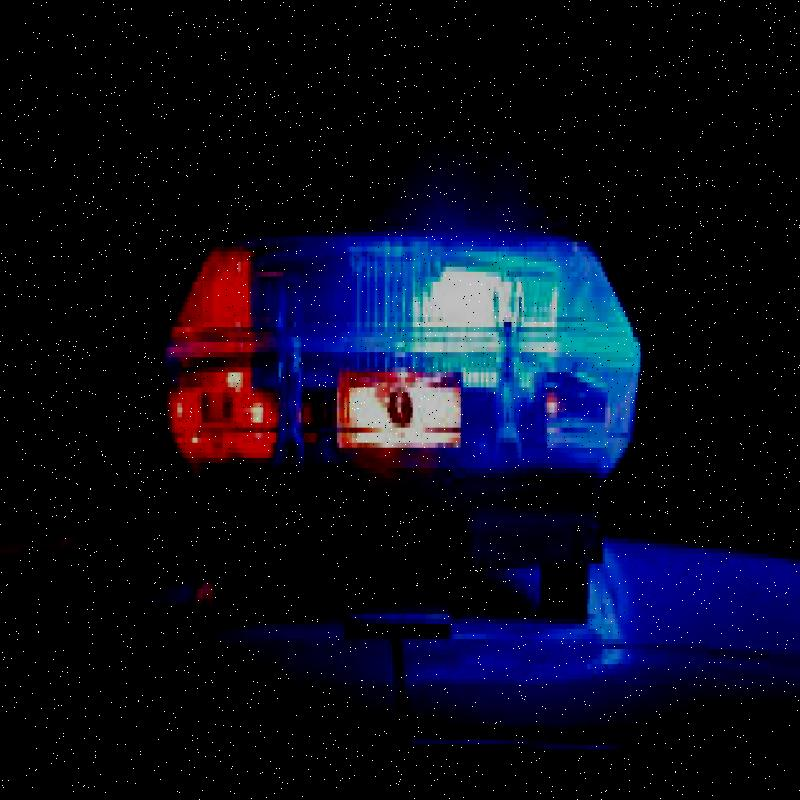AmbulanceSiren: (137, 159, 646, 581)
